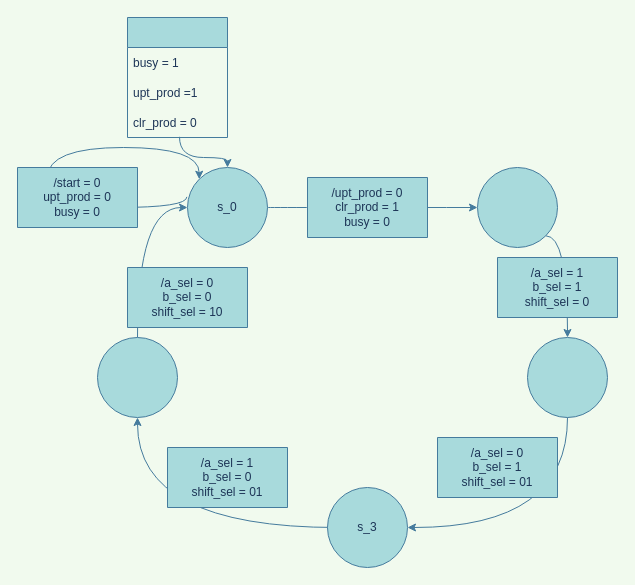
This 635x585 diagram has some shape labels left out. Here are the shapes that lost their labels. From the top down, the box of each, then its label:
(126, 16, 228, 138): Default values:
(476, 166, 558, 248): s_1
(96, 336, 178, 418): s_4
(526, 336, 608, 418): s_2
